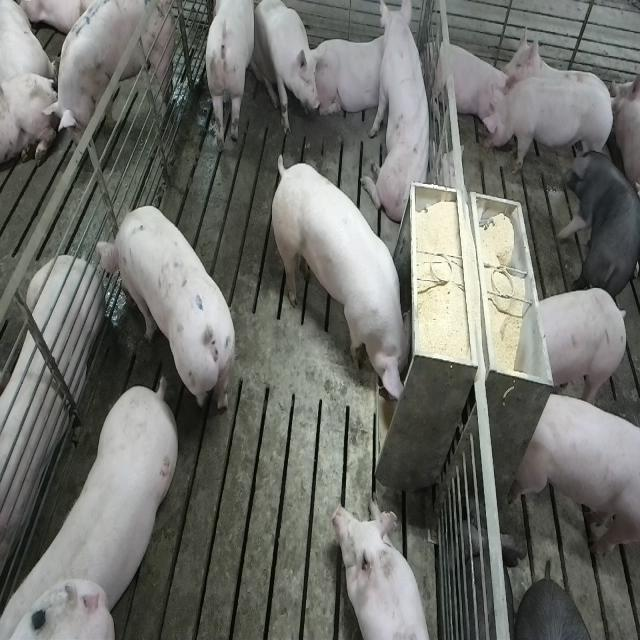Feeding: (274, 154, 419, 406)
Sitting: (368, 4, 436, 229), (253, 0, 320, 138)
Standing: (6, 372, 182, 632), (94, 205, 235, 424), (514, 386, 639, 564), (45, 2, 174, 138), (482, 78, 618, 182), (555, 132, 637, 296), (532, 286, 630, 410), (204, 2, 257, 157)
Sternal_lying: (0, 256, 100, 580), (332, 497, 434, 640), (426, 31, 509, 134), (312, 35, 393, 120), (502, 26, 566, 104)
